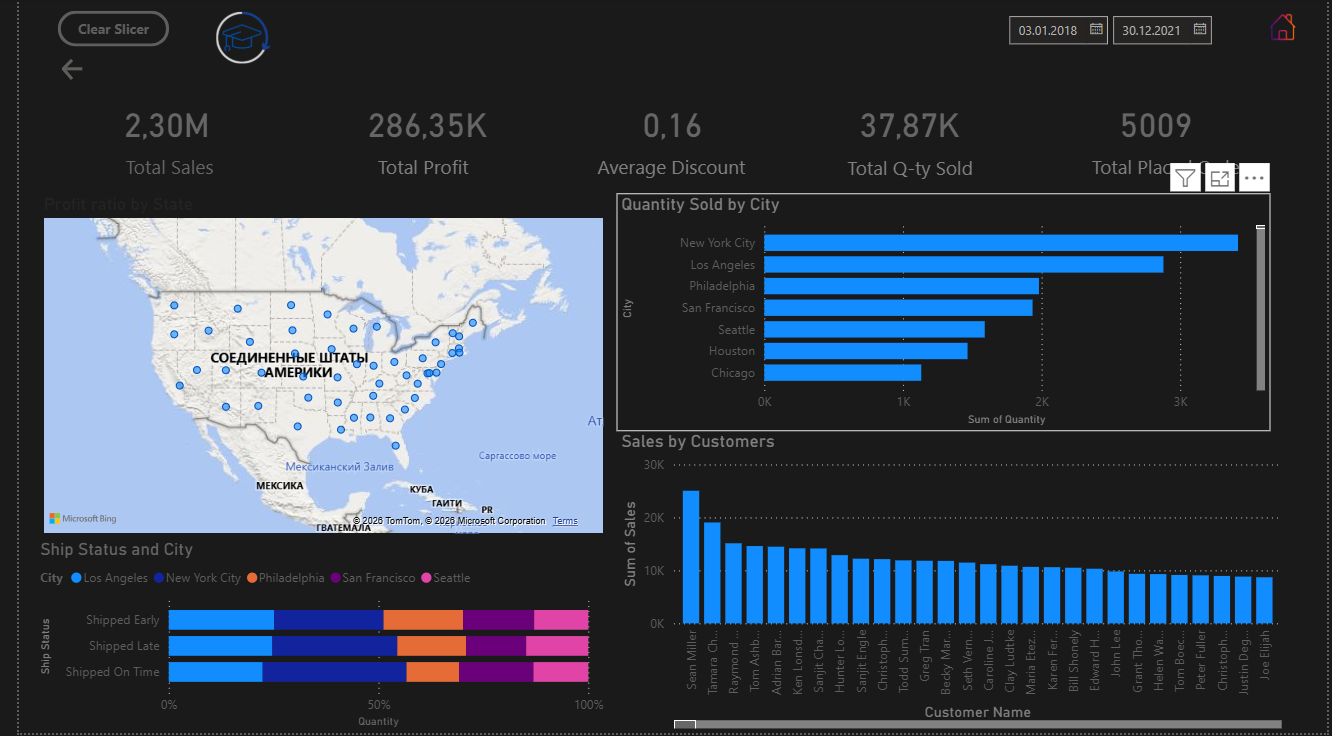

The dashboard page shown, as its layout file describes it:
{"tool":"powerbi","page":{"name":"Report Detailed","canvas":[1280,720],"ordinal":3},"visuals":[{"type":"image","box":[183.1,9.8,71.3,60.1],"z":0},{"type":"card","fields":{"Values":["Summary.Total Sales"]},"box":[74.1,96.1,140,52.1],"z":1000},{"type":"card","fields":{"Values":["Sample - Superstore_Orders.Order ID"]},"box":[1029.2,96.1,164.7,52.1],"z":2000},{"type":"card","fields":{"Values":["Summary.Total Profit"]},"box":[322.5,96.1,153.7,52.1],"z":3000},{"type":"card","fields":{"Values":["Summary.AverageDiscount"]},"box":[557.1,96.1,163.3,52.1],"z":4000},{"type":"card","fields":{"Values":["Sample - Superstore_Orders.Quantity"]},"box":[786.3,96.1,170.2,52.1],"z":5000},{"type":"textbox","box":[74.1,148.2,145.5,42.5],"z":6000},{"type":"textbox","box":[322.5,148.2,145.5,42.5],"z":7000},{"type":"textbox","box":[554.4,148.2,168.8,42.5],"z":8000},{"type":"textbox","box":[1034.7,148.2,189.4,42.5],"z":9000},{"type":"textbox","box":[787.7,149.6,168.8,42.5],"z":10000},{"type":"clusteredBarChart","title":"Quantity Sold by City","fields":{"Category":["Sample - Superstore_Orders.City"],"Y":["Sample - Superstore_Orders.Quantity"]},"box":[584.6,192.1,639.5,231.9],"z":11000},{"type":"map","fields":{"Category":["Sample - Superstore_Orders.State"],"Y":["Summary.Profit ratio"]},"box":[19.2,192.1,557.1,337.6],"z":12000},{"type":"hundredPercentStackedBarChart","title":"Ship Status and City","fields":{"Category":["Sample - Superstore_Orders.Ship Status"],"Y":["Sample - Superstore_Orders.Quantity"],"Series":["Sample - Superstore_Orders.City"]},"box":[16.5,529.7,561.2,190.7],"z":13000},{"type":"columnChart","title":"Sales by Customers","fields":{"Y":["Sample - Superstore_Orders.Sales"],"Category":["Sample - Superstore_Orders.Customer Name"]},"box":[584.6,424,655.9,296.4],"z":14000},{"type":"slicer","fields":{"Values":["Calendar.Date"]},"box":[956.3,8.6,223.8,57.5],"z":15000},{"type":"actionButton","box":[37.7,14,109,34.9],"z":16000},{"type":"image","box":[1214.3,9.8,44.7,39.1],"z":17000},{"type":"actionButton","box":[37.7,55.9,54.5,29.3],"z":18000}]}

Visuals, with their boxes on the page's 1280x720 design canvas (x1, y1, x2, y2). These are canvas units, not pixel positions in the 1332x736 screenshot, which may show the page scaled, cropped or inside an application window:
image: [left=183, top=10, right=254, bottom=70]
card - Summary.Total Sales: [left=74, top=96, right=214, bottom=148]
card - Sample - Superstore_Orders.Order ID: [left=1029, top=96, right=1194, bottom=148]
card - Summary.Total Profit: [left=322, top=96, right=476, bottom=148]
card - Summary.AverageDiscount: [left=557, top=96, right=720, bottom=148]
card - Sample - Superstore_Orders.Quantity: [left=786, top=96, right=956, bottom=148]
textbox: [left=74, top=148, right=220, bottom=191]
textbox: [left=322, top=148, right=468, bottom=191]
textbox: [left=554, top=148, right=723, bottom=191]
textbox: [left=1035, top=148, right=1224, bottom=191]
textbox: [left=788, top=150, right=956, bottom=192]
"Quantity Sold by City" clusteredBarChart: [left=585, top=192, right=1224, bottom=424]
map - Sample - Superstore_Orders.State x Summary.Profit ratio: [left=19, top=192, right=576, bottom=530]
"Ship Status and City" hundredPercentStackedBarChart: [left=16, top=530, right=578, bottom=720]
"Sales by Customers" columnChart: [left=585, top=424, right=1240, bottom=720]
slicer - Calendar.Date: [left=956, top=9, right=1180, bottom=66]
actionButton: [left=38, top=14, right=147, bottom=49]
image: [left=1214, top=10, right=1259, bottom=49]
actionButton: [left=38, top=56, right=92, bottom=85]
